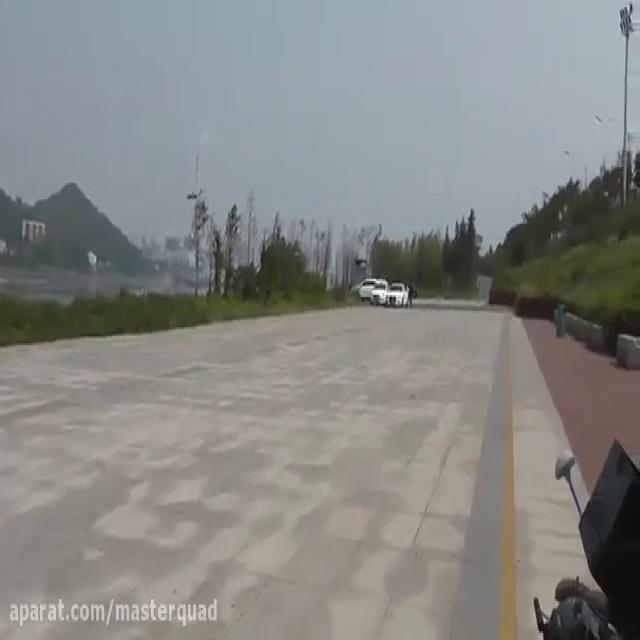drone: (183, 181, 204, 201)
